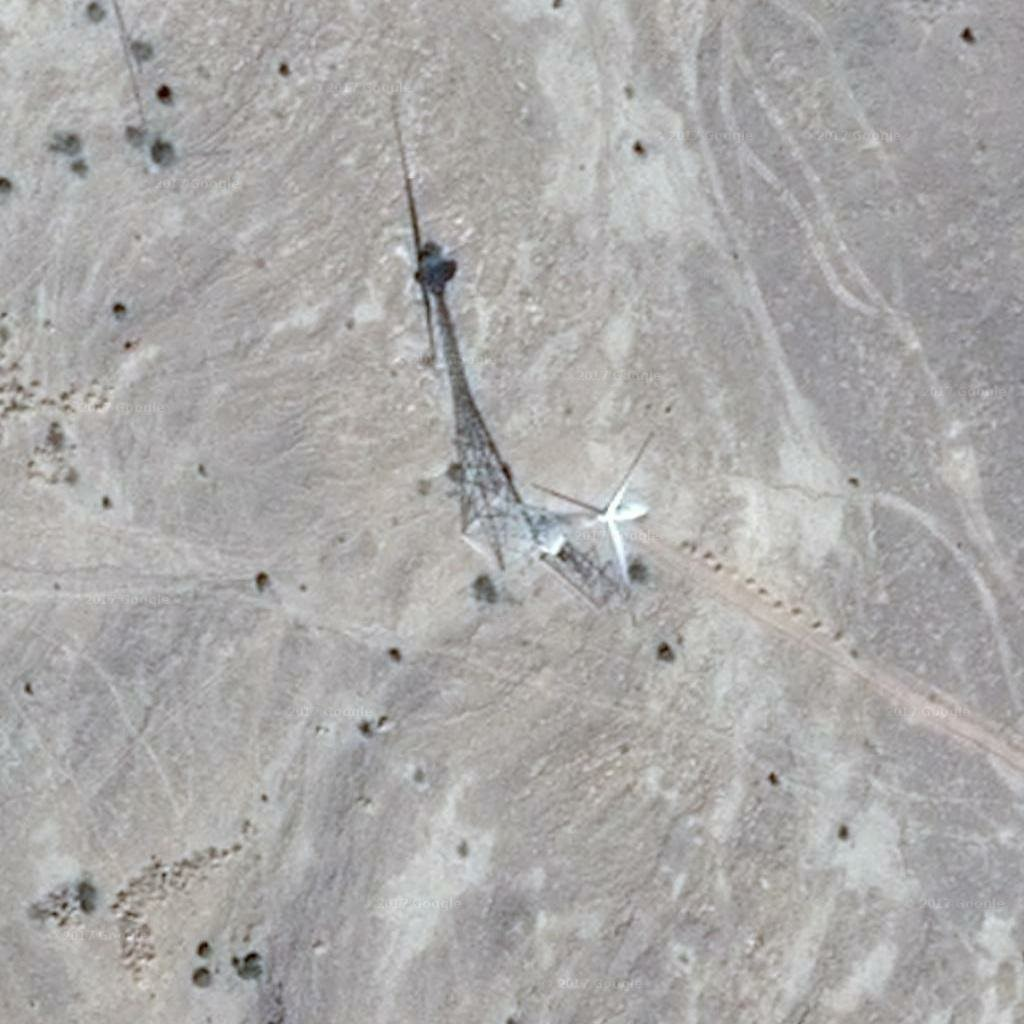Windmill: (360, 109, 528, 577)
